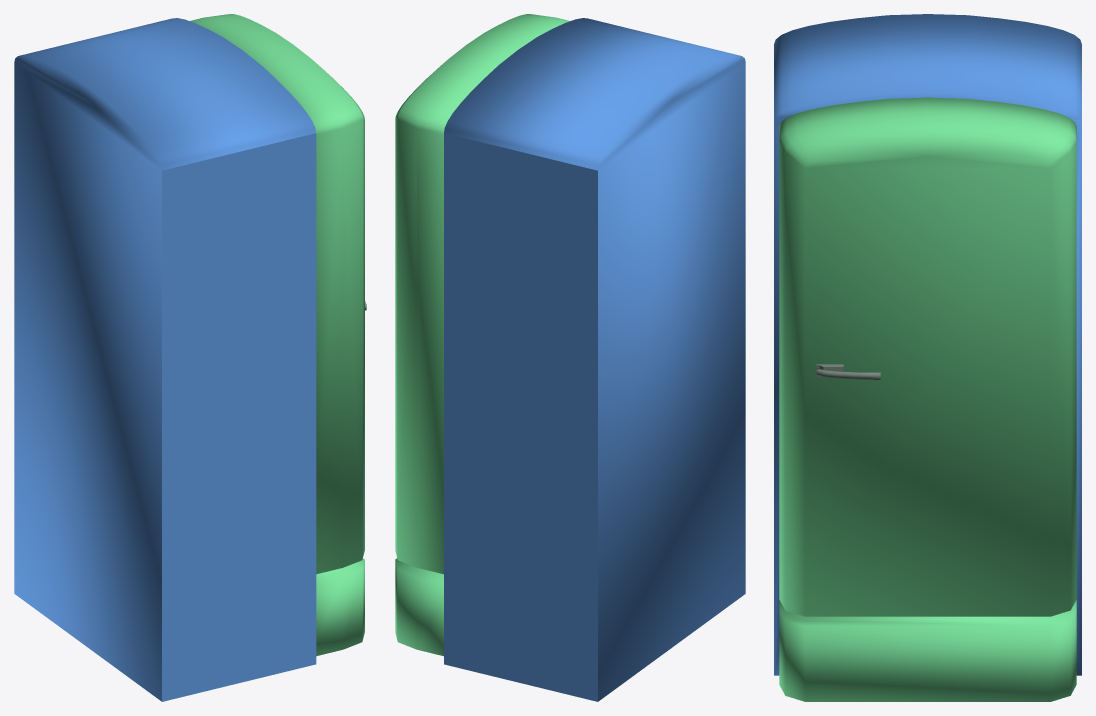
The model's file is fridge.gltf.
3 views of the same model, side by side, from view 1: azimuth 30°, elevation 25°; view 2: azimuth 150°, elevation 25°; view 3: azimuth 270°, elevation 25° (orthographic). The views are drawn at different scales.
Visible parts, largest first — view 1: fridge; view 2: fridge; view 3: fridge.
Boxes of the visible parts, x1,y1,x2,y2 form: fridge: [14, 14, 366, 701]; fridge: [395, 14, 745, 701]; fridge: [774, 14, 1081, 701].
Size of the model in its own units: 2.15 by 4.97 by 2.38.
